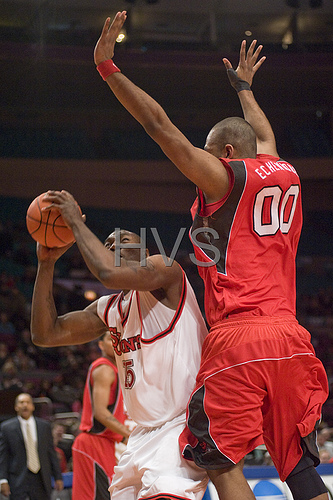basketball: (26, 192, 79, 246)
